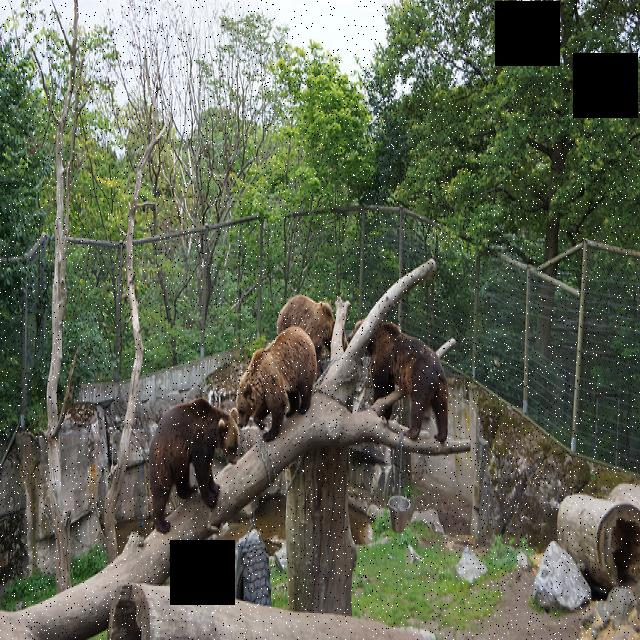Bear: (144, 393, 245, 533), (232, 318, 321, 428)
